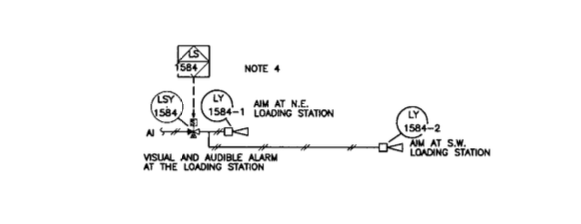Instrument-offset: (387, 106, 450, 140), (197, 88, 249, 123), (141, 89, 184, 124)
Instrument-square-offset: (173, 41, 214, 79)
